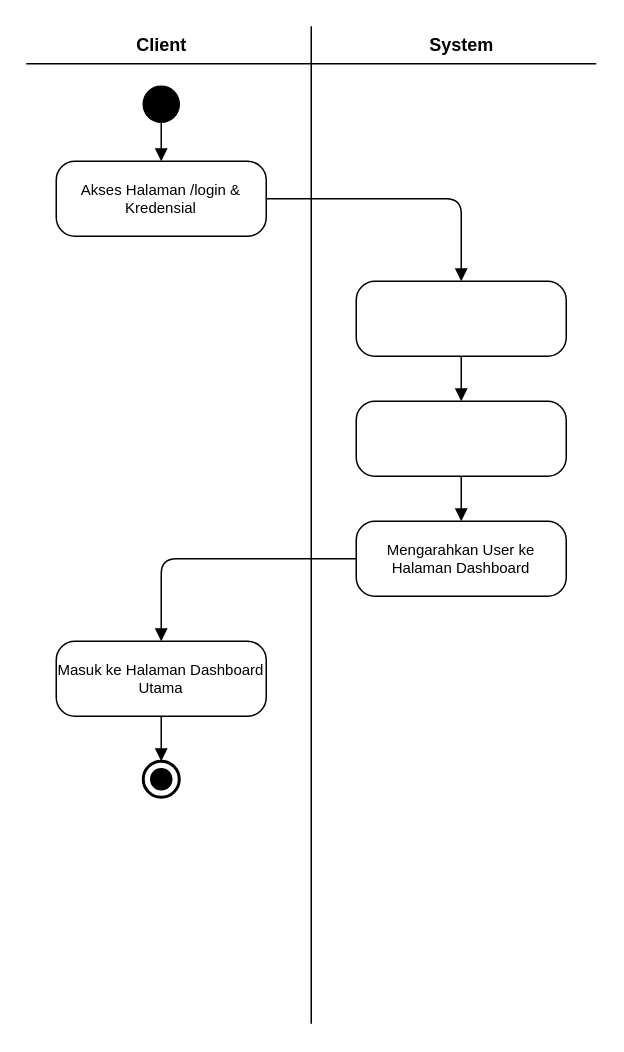
The diagram is 624 pixels wide and 1052 high, and some of its shapes have lost their labels. The box of each missing label's shape, as (x1, y1, x2, y2) in pixels:
Membuat Sesi Login & Cookie Sesi: (355, 400, 566, 476)
Memvalidasi Kredensial & Sesi: (355, 280, 566, 356)
